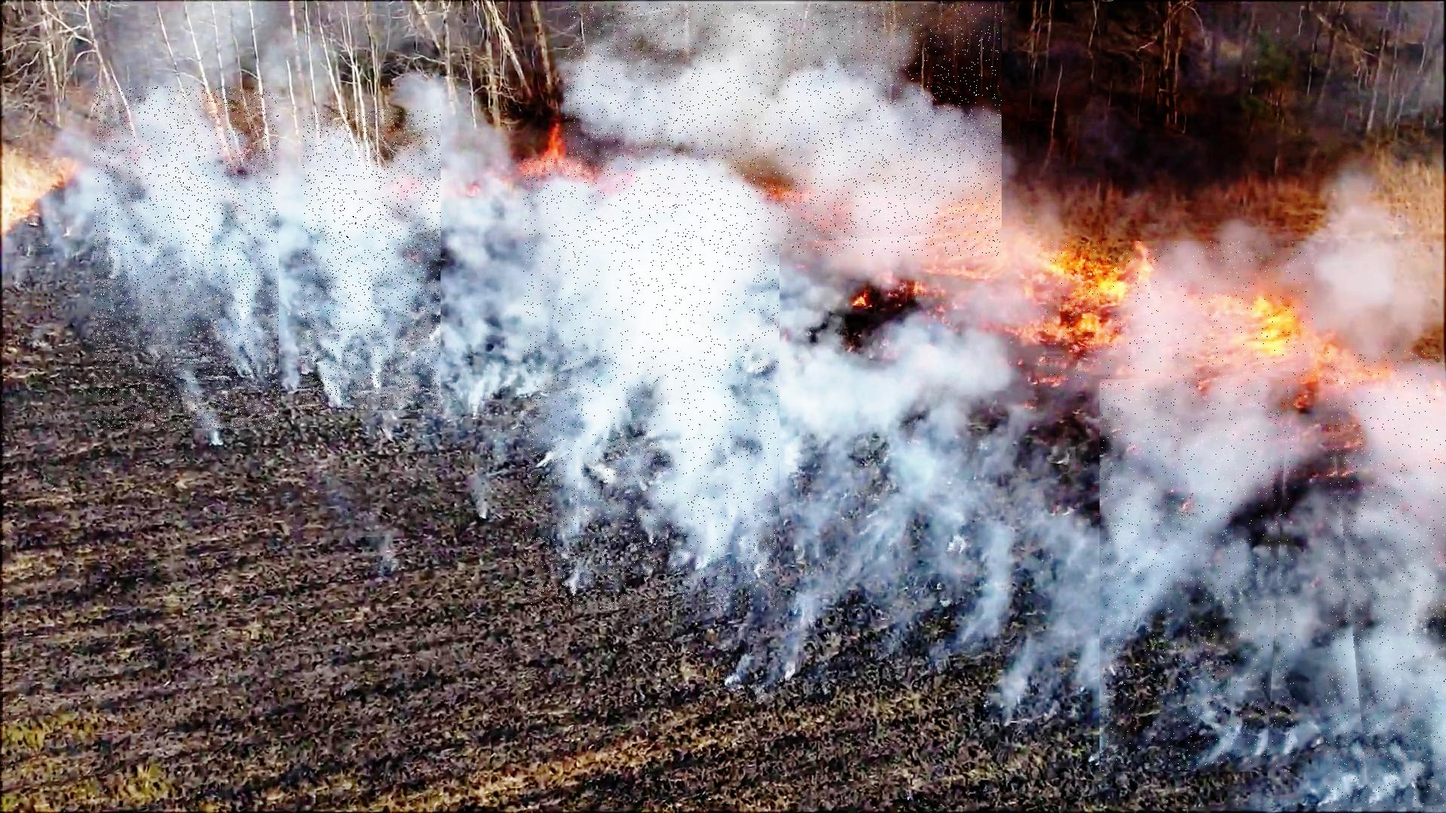fire: (1047, 241, 1314, 380)
smoke: (523, 158, 779, 610), (565, 4, 1002, 256), (1100, 275, 1295, 772), (94, 87, 279, 429), (1326, 350, 1446, 813), (301, 109, 441, 410)
